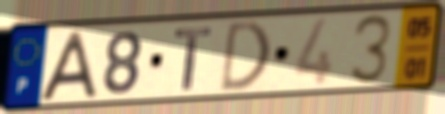3: (347, 12, 394, 88)
4: (292, 16, 336, 88)
8: (103, 29, 144, 96)
A: (36, 28, 101, 103)
D: (217, 17, 274, 95)
T: (172, 24, 214, 93)
